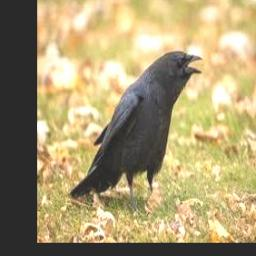Crow: (69, 50, 202, 212)
